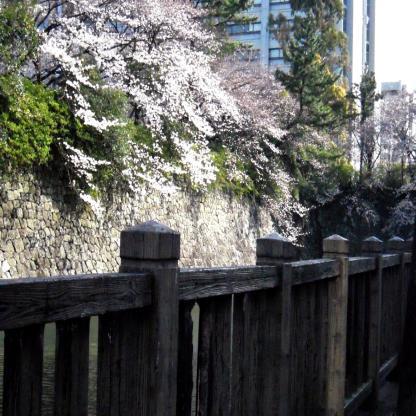Someiyoshino: (41, 1, 333, 238), (346, 89, 415, 227)
